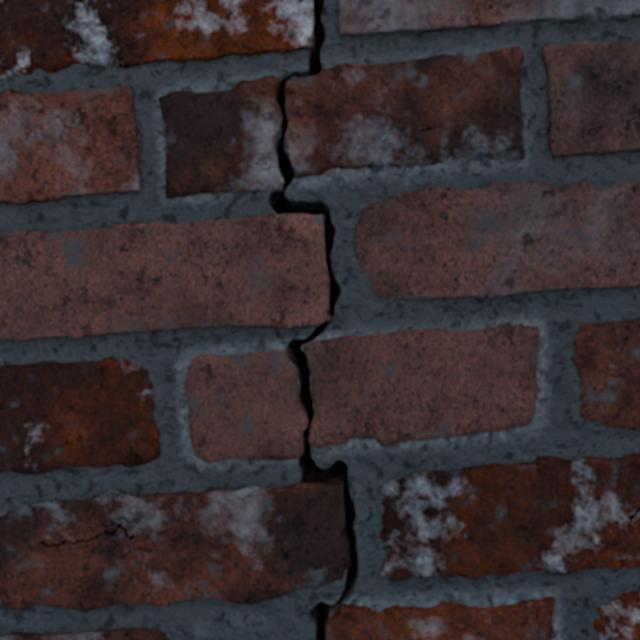broken_brick: (286, 46, 524, 177), (303, 325, 538, 448), (159, 76, 283, 197), (184, 351, 306, 462), (328, 596, 554, 639)
crack: (0, 0, 358, 639), (354, 181, 639, 299), (380, 453, 639, 581), (0, 357, 160, 474), (0, 86, 140, 204), (541, 41, 639, 157), (339, 0, 639, 35), (573, 319, 639, 430), (593, 591, 639, 639), (0, 628, 168, 639), (164, 122, 166, 150), (420, 127, 433, 131)
